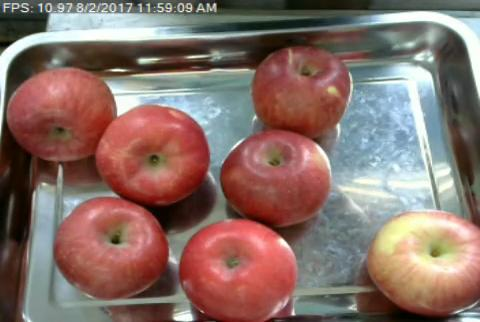apple: (55, 196, 170, 299), (367, 210, 479, 313), (181, 220, 296, 319), (102, 103, 210, 205), (3, 68, 116, 161), (219, 133, 330, 226), (250, 45, 352, 137)
